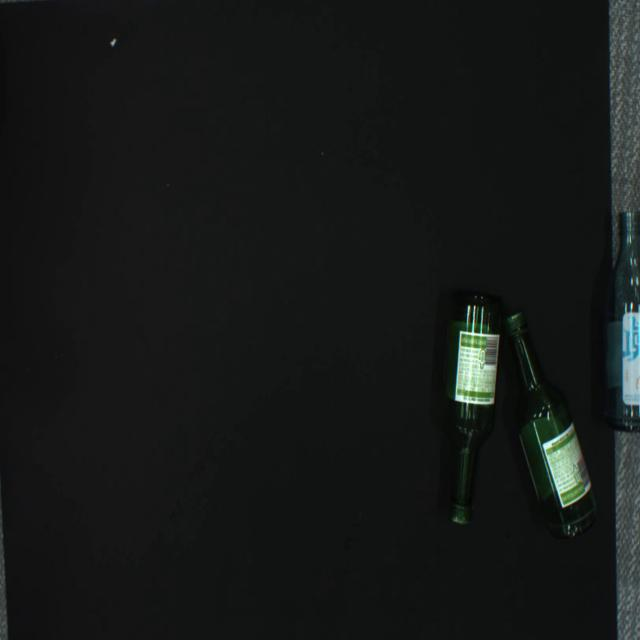soju-bottle: (504, 311, 600, 543), (440, 289, 504, 525), (601, 210, 640, 433)
